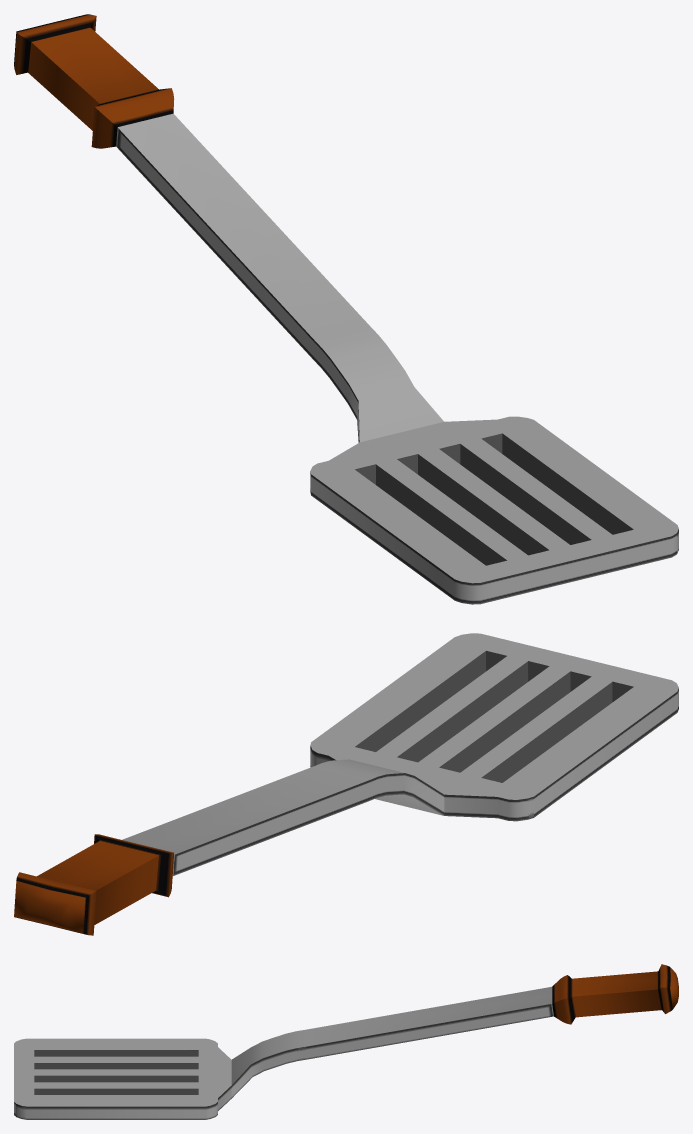
File: Spatula.FBX
3 renders of one model, top to bottom at view 1: azimuth 30°, elevation 25°; view 2: azimuth 150°, elevation 25°; view 3: azimuth 270°, elevation 25°, orthographic. The views are drawn at different scales.
Parts seen in each view (by area): view 1: Box001; view 2: Box001; view 3: Box001.
Boxes of the visible parts, x1,y1,x2,y2 form: Box001: (14,14,678,604); Box001: (14,633,678,935); Box001: (14,964,678,1119).
Bounding box in the file's own units: 1277 × 5283 × 964.
1 material, 1 textured.
